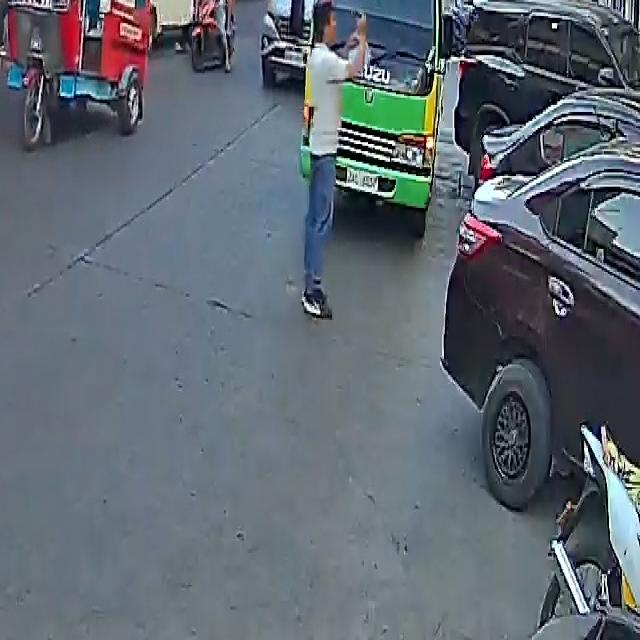car: (442, 150, 640, 510), (451, 0, 640, 183), (261, 0, 328, 85), (190, 0, 235, 73)
